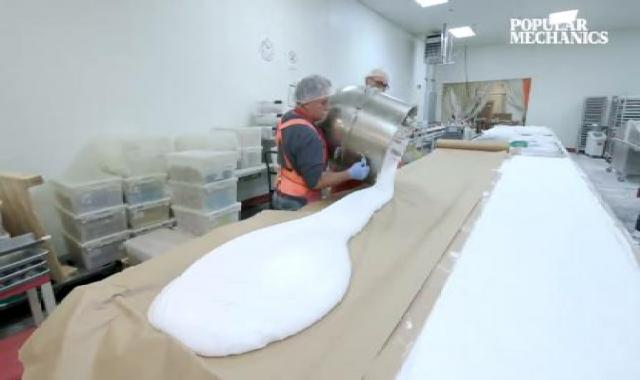hairnet: (281, 77, 339, 105), (361, 65, 399, 82)
